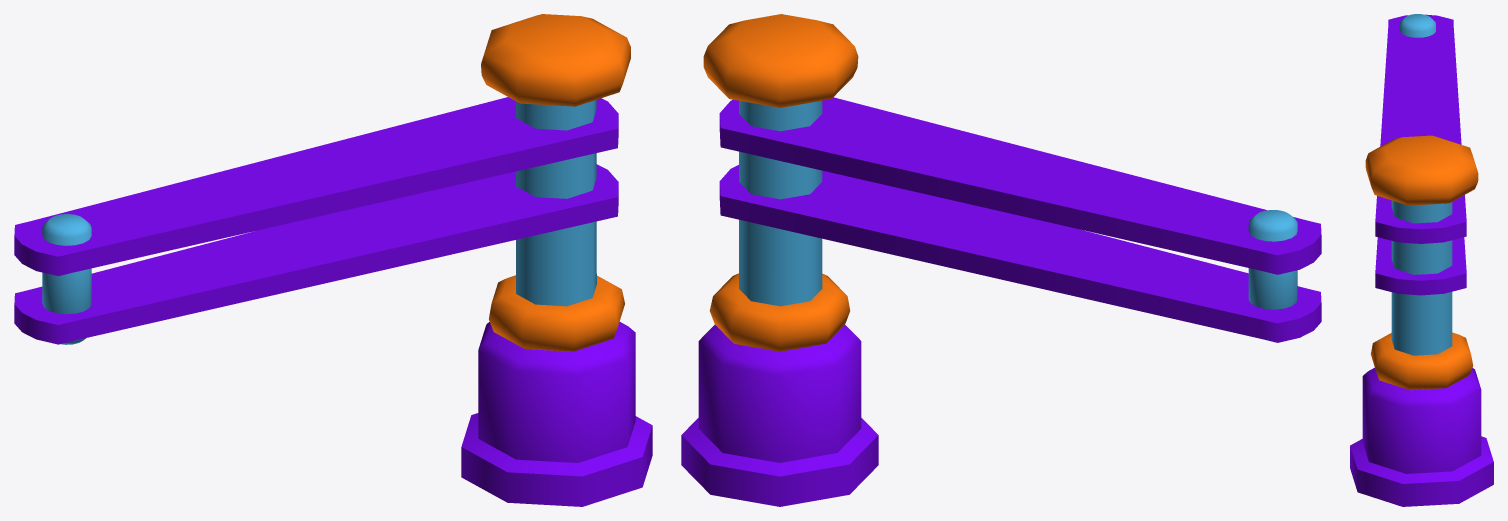
File: Spinning_Blade_01.fbx
3 renders of one model, left to right at view 1: azimuth 30°, elevation 25°; view 2: azimuth 150°, elevation 25°; view 3: azimuth 270°, elevation 25°, orthographic. The views are drawn at different scales.
Visible parts, largest first — view 1: Obstacle_Blade_Holder, Obstacle_Spinning_Blade_01; view 2: Obstacle_Blade_Holder, Obstacle_Spinning_Blade_01; view 3: Obstacle_Spinning_Blade_01, Obstacle_Blade_Holder.
Boxes of the visible parts, x1,y1,x2,y2 form: Obstacle_Blade_Holder: (14, 97, 618, 344); Obstacle_Spinning_Blade_01: (461, 14, 652, 506); Obstacle_Blade_Holder: (719, 97, 1321, 342); Obstacle_Spinning_Blade_01: (681, 14, 878, 506); Obstacle_Spinning_Blade_01: (1350, 135, 1493, 506); Obstacle_Blade_Holder: (1375, 14, 1466, 295).
Bounding box in the file's own units: 159 × 106 × 42.59.
1 material, 1 textured.
